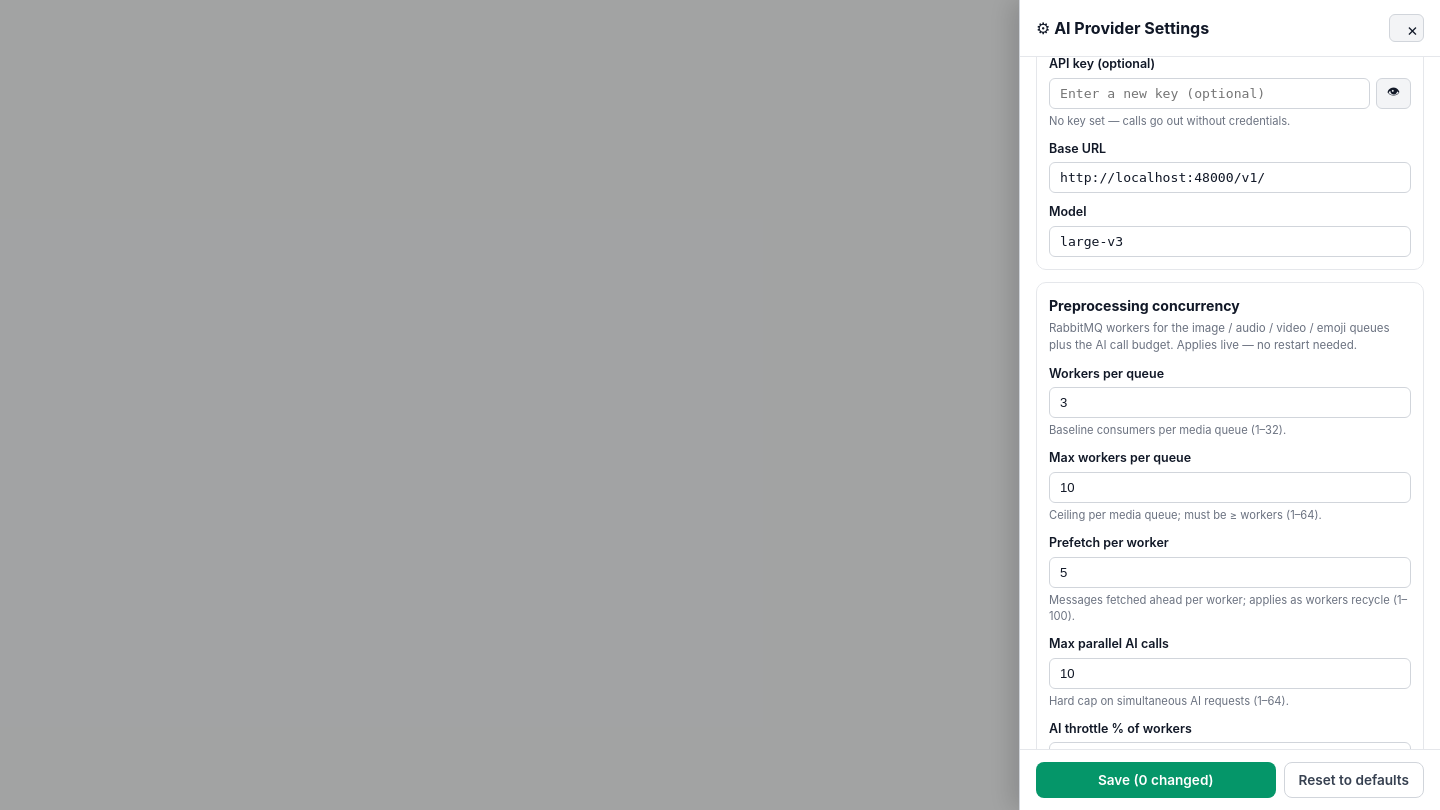
SettingsSidebar › shows backend validation errors on save
(page scrolled)
Replace the text in the number field labelled "Workers per queue" with "8" at (1230, 403), box [1049,388,1411,418]
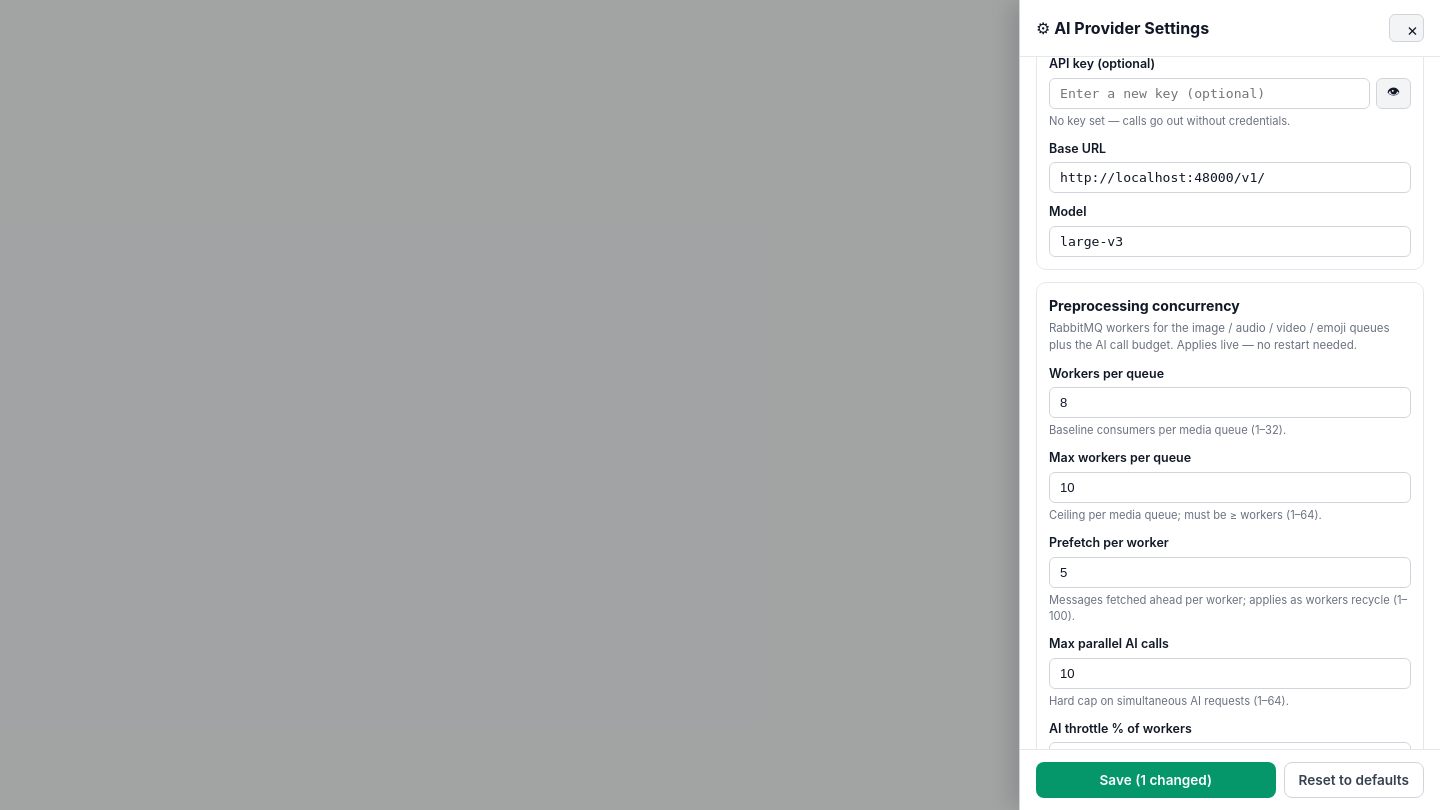
Replace the text in the number field labelled "Max workers per queue" with "2" at (1230, 488), box [1049,472,1411,503]
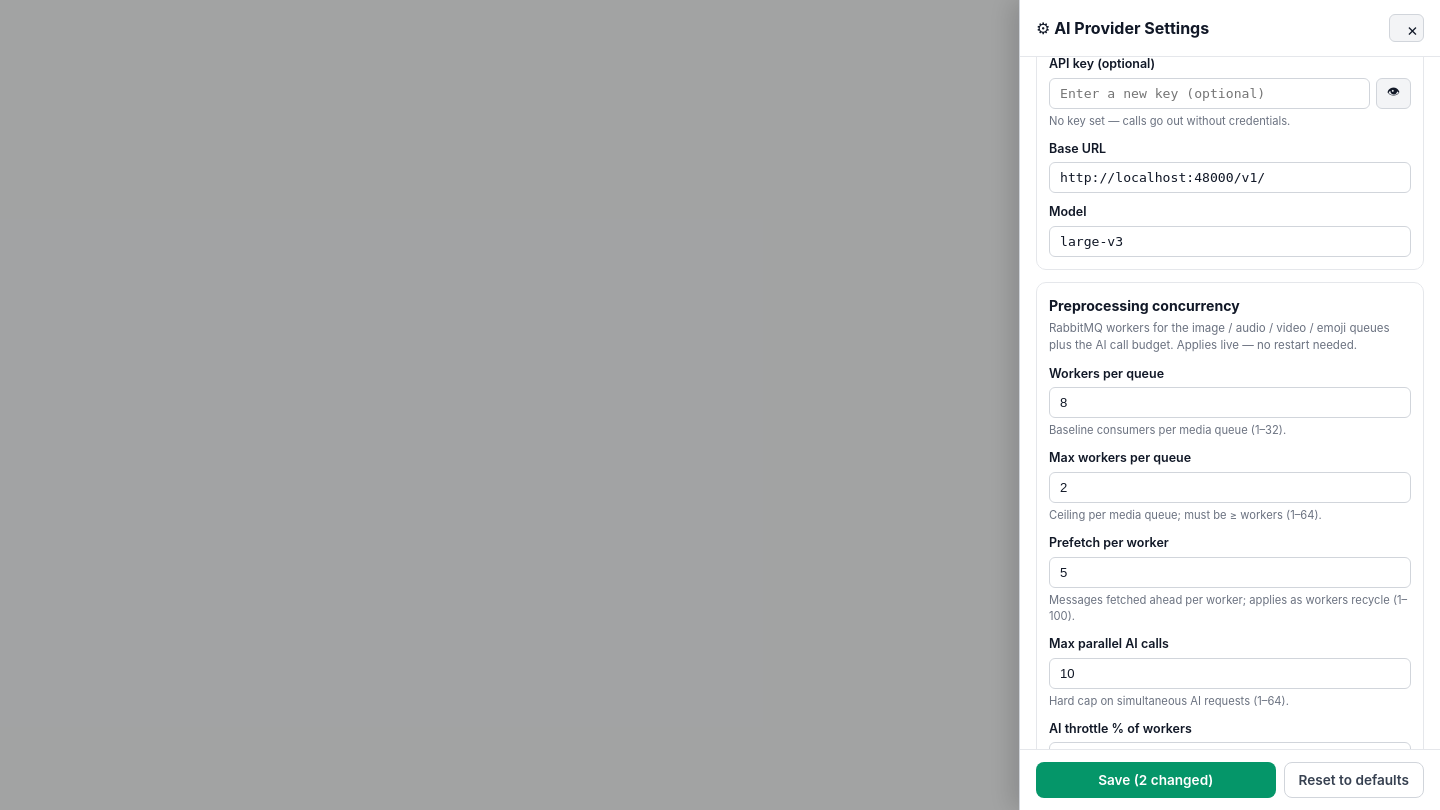
Click the button "Save (2 changed)" at (1156, 780), box [1036,762,1276,798]
(page scrolled)
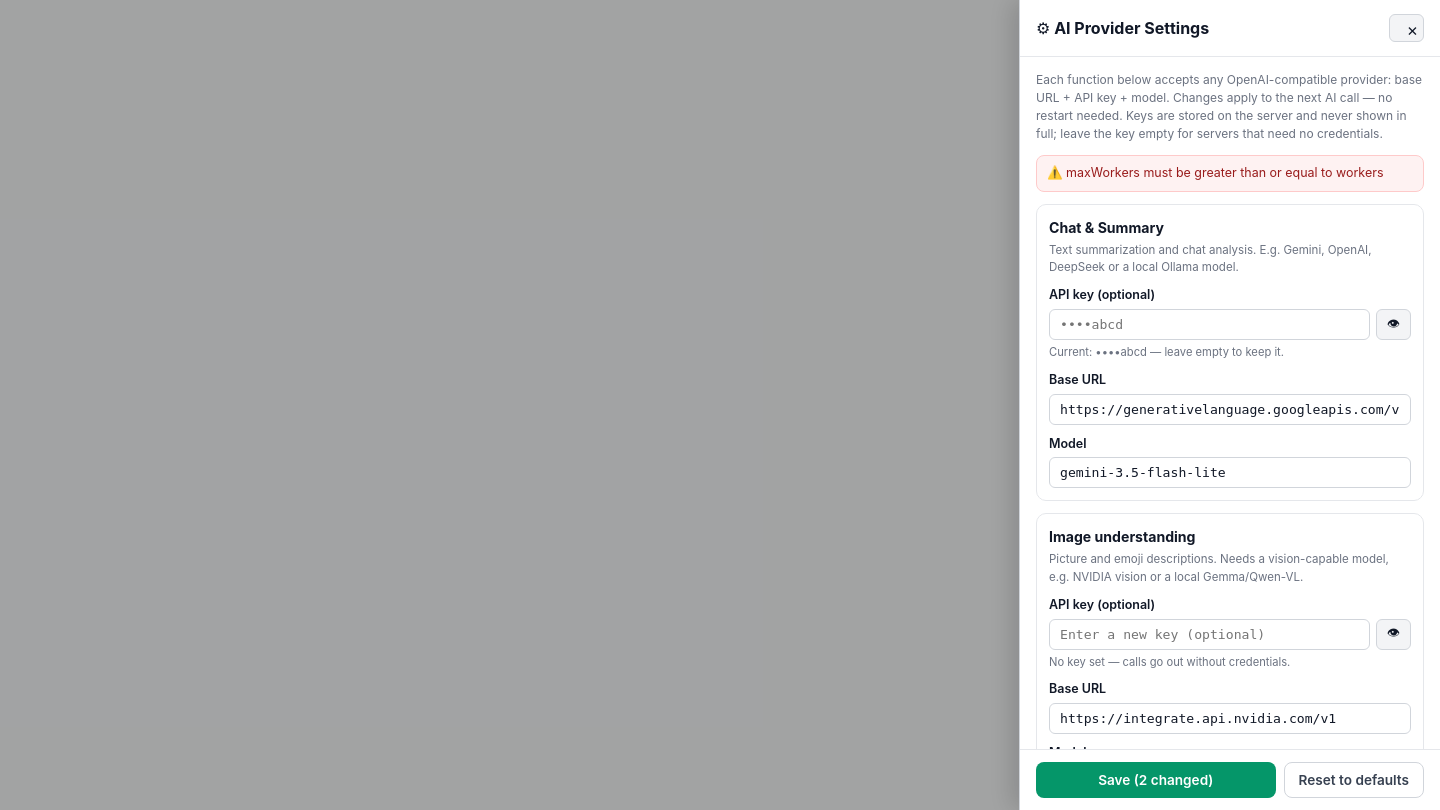
Now the text "⚠️ maxWorkers must be greater than or equal to workers" is shown, box [1036,155,1424,192]
